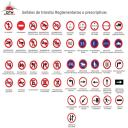NoEstacionar: (29, 77, 38, 88)
NoVirarDireita: (41, 60, 50, 70)
NoVirarEsquerda: (29, 60, 38, 70)
NoVirarU: (52, 60, 62, 70)
speed_limit_90: (66, 38, 75, 49)
